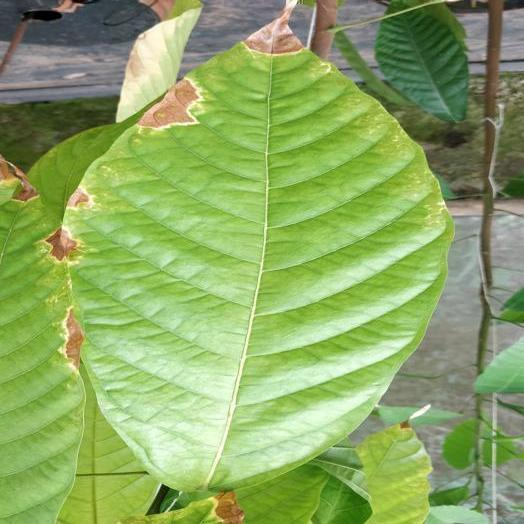Potassium: (62, 6, 452, 491), (0, 155, 84, 523), (118, 492, 242, 523)
